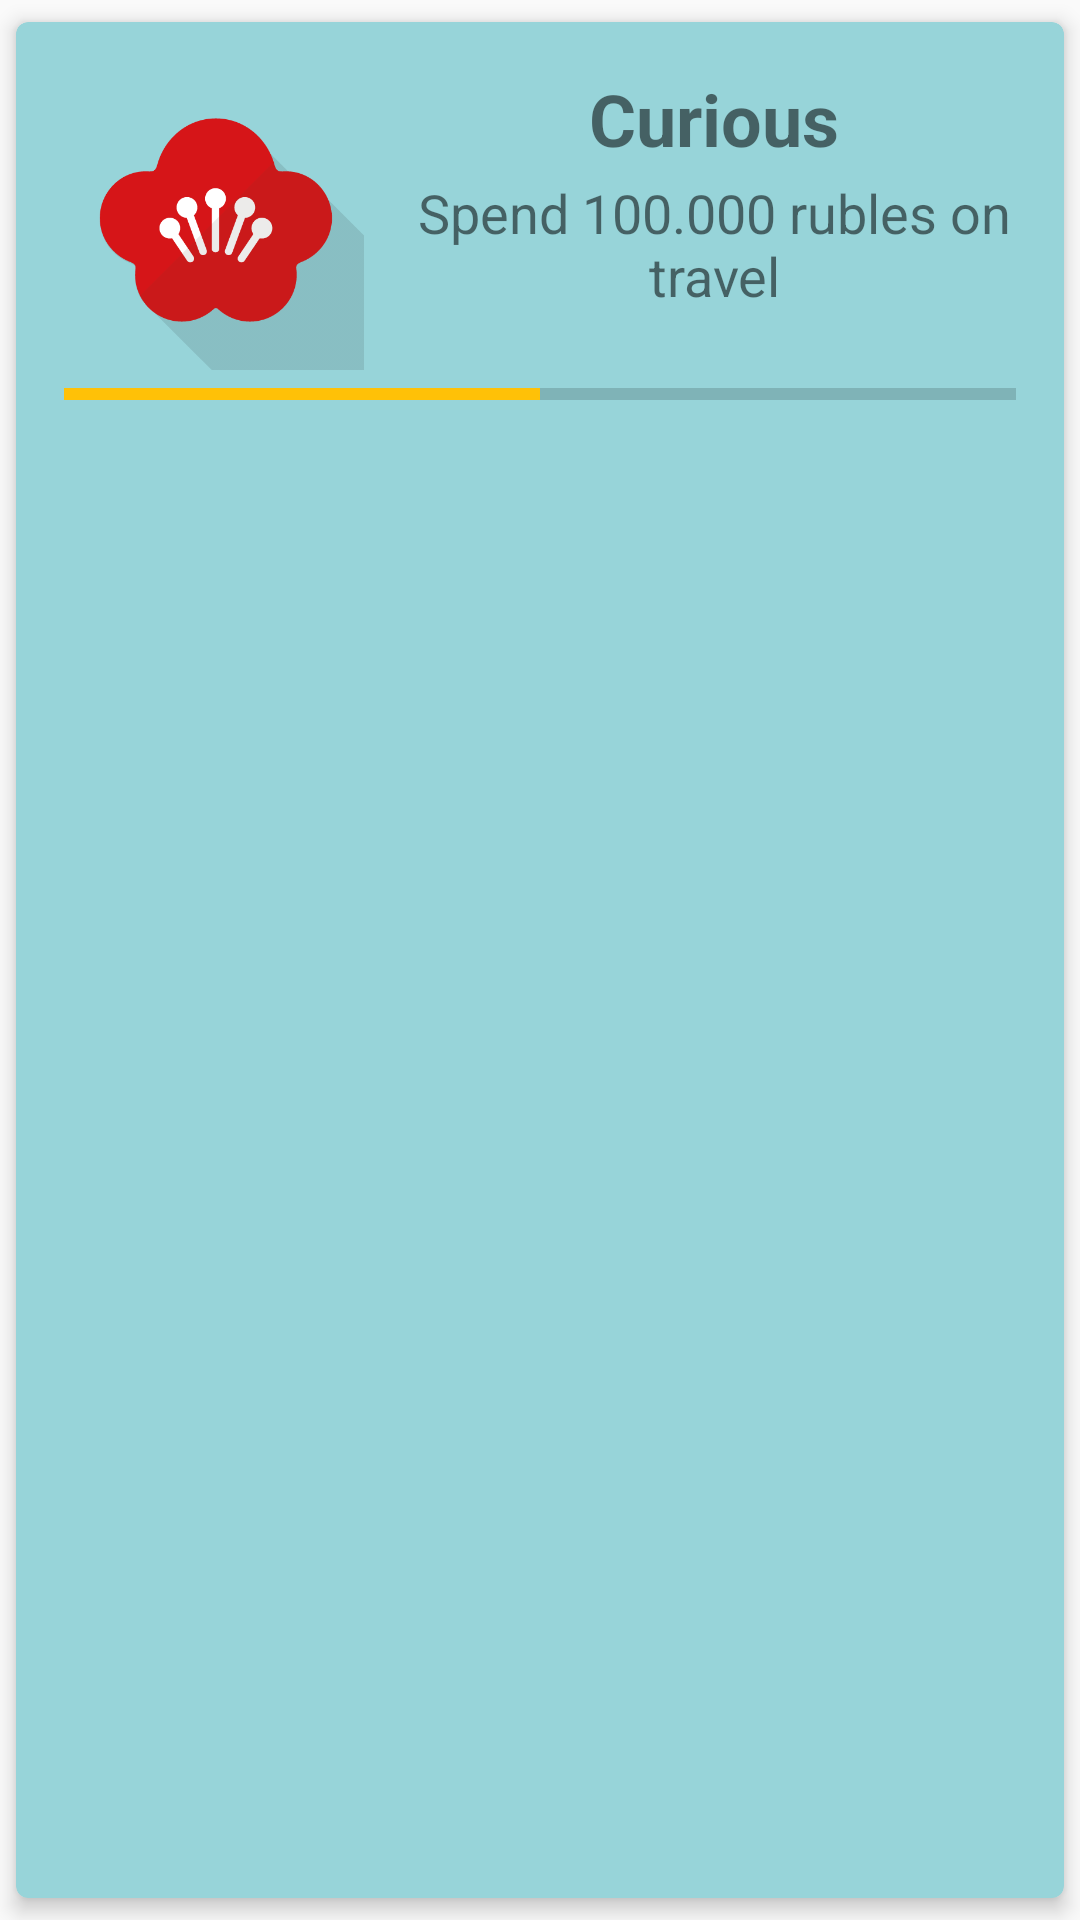

Locate icon controls on the screen. Image size 1080×1920, boxes as (x1, y1, x2, y2).
plum: (100, 118, 333, 322)
